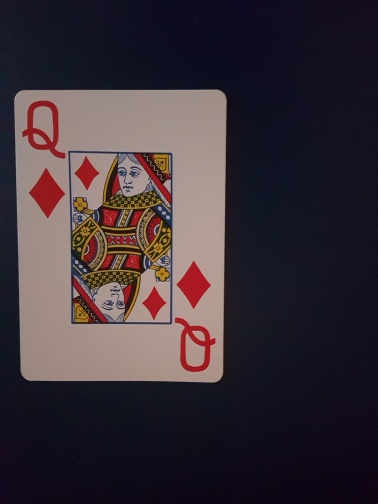queen: (15, 89, 226, 384)
